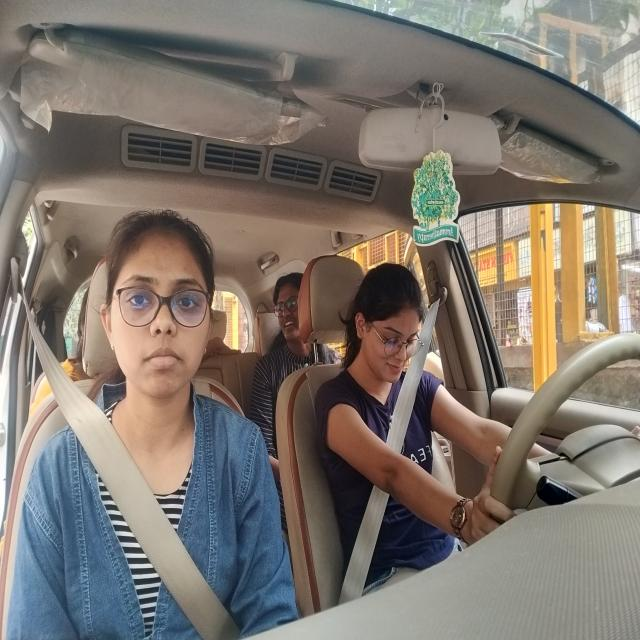drowsy: (342, 259, 435, 407)
person: (102, 196, 226, 425), (263, 257, 315, 371)
